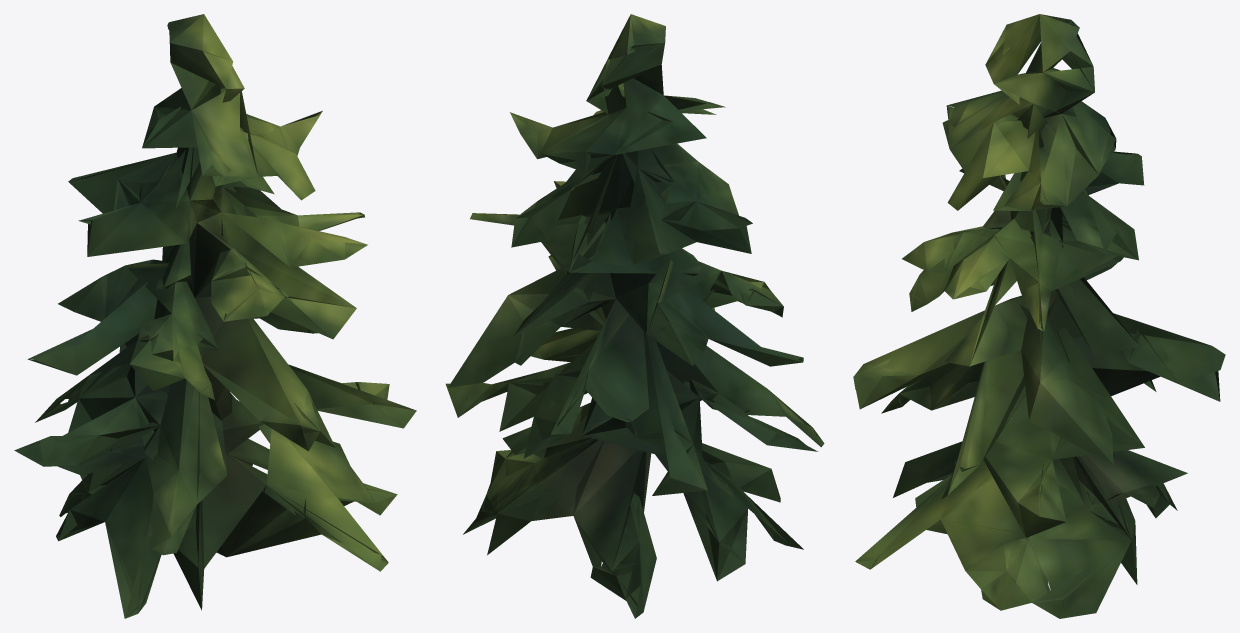
Rendered from conifer-low.glb.
3 views of the same model, side by side, from view 1: azimuth 30°, elevation 25°; view 2: azimuth 150°, elevation 25°; view 3: azimuth 270°, elevation 25° (orthographic).
Visible parts, largest first — view 1: tripo_node_f3e90093-1936-4556-8732-e5e362832c58; view 2: tripo_node_f3e90093-1936-4556-8732-e5e362832c58; view 3: tripo_node_f3e90093-1936-4556-8732-e5e362832c58.
Boxes of the visible parts, x1,y1,x2,y2 form: tripo_node_f3e90093-1936-4556-8732-e5e362832c58: (14,14,416,618); tripo_node_f3e90093-1936-4556-8732-e5e362832c58: (445,14,824,618); tripo_node_f3e90093-1936-4556-8732-e5e362832c58: (853,14,1225,618).
Bounding box in the file's own units: 0.6026 × 0.8297 × 0.522.
1 material, 1 textured.
